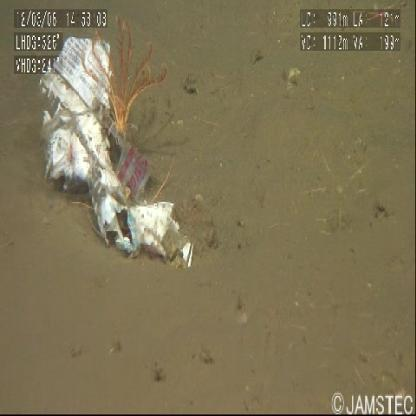Rác: (31, 25, 209, 300)
